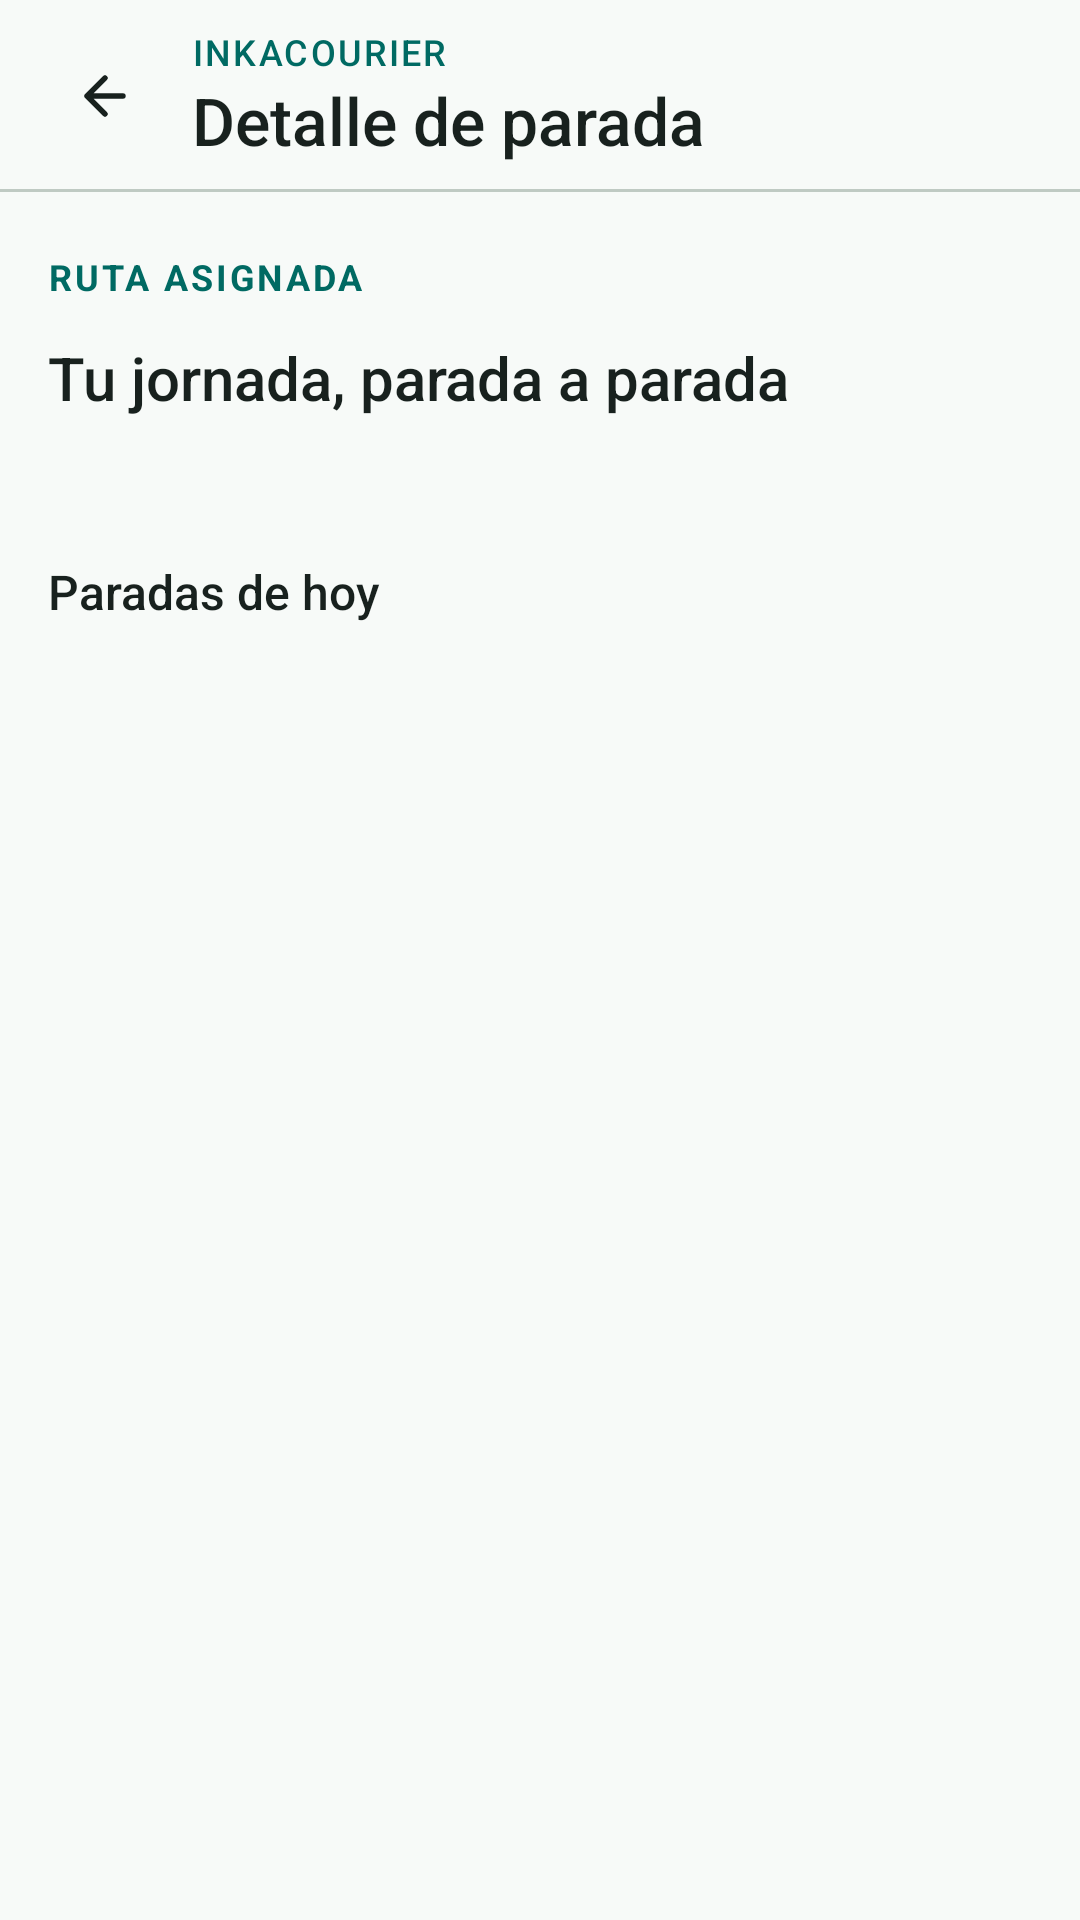

Screen size 1080x1920. Icon name, then its center in pixels as (x,y):
Volver: (105,96)
